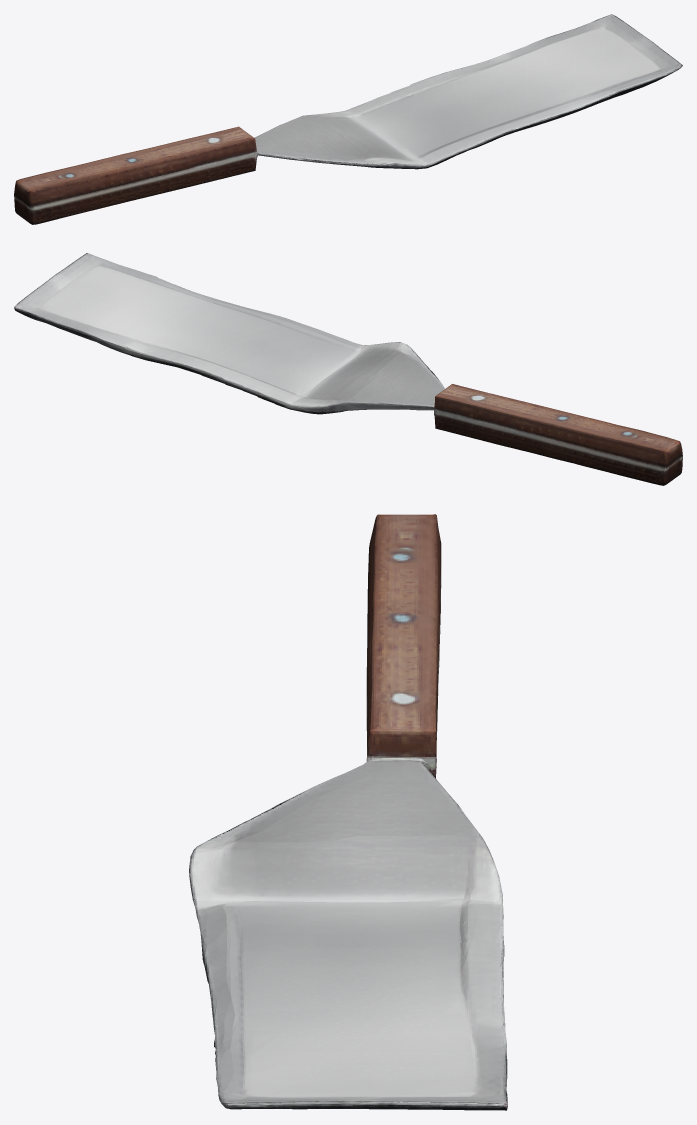
File: Grill Spatula.glb
3 renders of one model, top to bottom at view 1: azimuth 30°, elevation 25°; view 2: azimuth 150°, elevation 25°; view 3: azimuth 270°, elevation 25°, orthographic. The views are drawn at different scales.
Parts seen in each view (by area): view 1: world; view 2: world; view 3: world.
Part boxes in pixels (x1,y1,x2,y2): world: [14, 14, 682, 224]; world: [14, 253, 682, 485]; world: [189, 514, 507, 1110].
Bounding box in the file's own units: 1 × 0.06 × 0.2244.
Materials: 1 (1 with a texture image).
